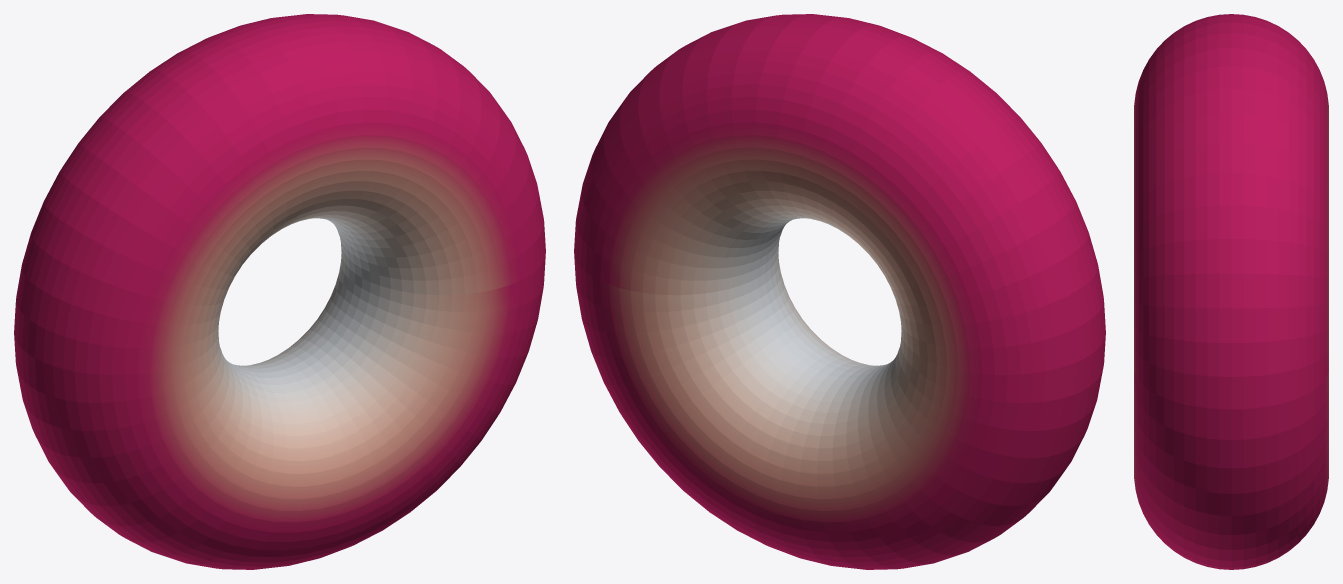
3 renders of one model, left to right at view 1: azimuth 30°, elevation 25°; view 2: azimuth 150°, elevation 25°; view 3: azimuth 270°, elevation 25°, orthographic. The views are drawn at different scales.
Parts seen in each view (by area): view 1: world; view 2: world; view 3: world.
Boxes of the visible parts, box(x1,y1,x2,y2) form: world: box(14, 14, 545, 569); world: box(574, 14, 1105, 569); world: box(1134, 14, 1328, 569).
Bounding box in the file's own units: 27.73 × 27.68 × 9.71.
